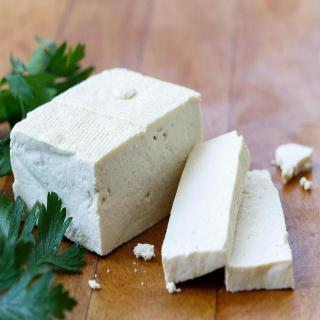Tahu: (4, 67, 320, 291)
